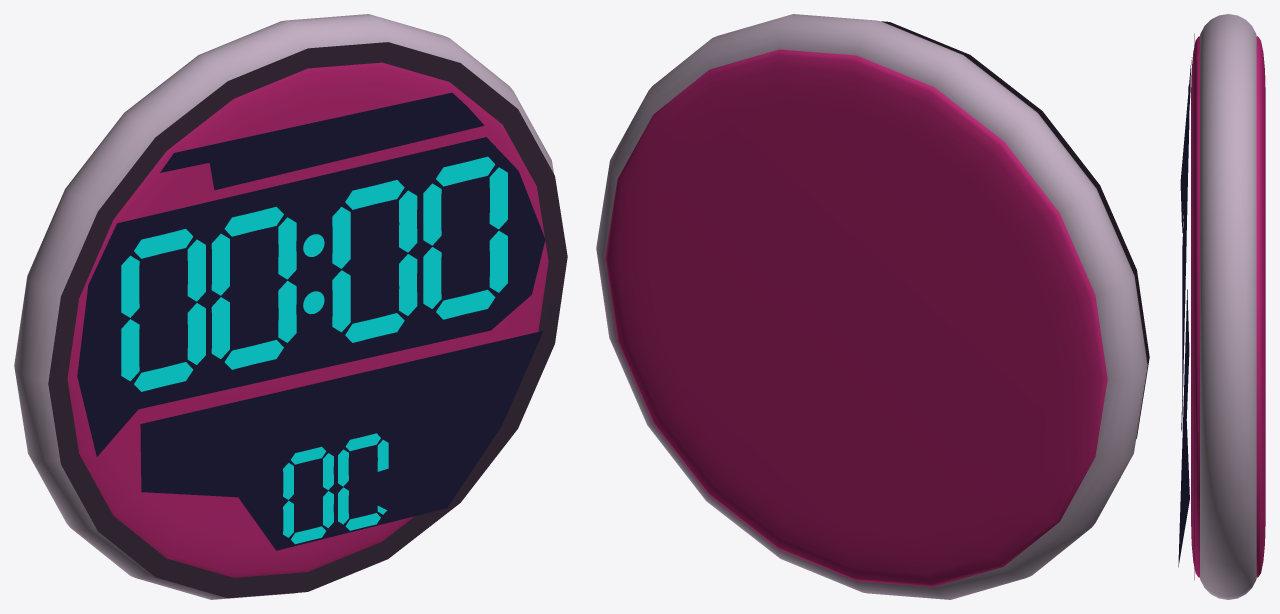
Rendered from Clock_bone.fbx.
The picture shows the model from 3 angles, left to right: view 1: azimuth 30°, elevation 25°; view 2: azimuth 150°, elevation 25°; view 3: azimuth 270°, elevation 25°; orthographic projection. The views are drawn at different scales.
Visible parts, largest first — view 1: obj4, obj5, obj2, obj6, obj1, obj3, obj9, obj8, obj10, obj7, obj13, obj14; view 2: obj2, obj1, obj6; view 3: obj1, obj2, obj5, obj4, obj3, obj6.
Boxes of the visible parts, bbox=[...] form: obj4: bbox=[77, 137, 545, 456]; obj5: bbox=[140, 330, 543, 550]; obj2: bbox=[67, 62, 548, 577]; obj6: bbox=[48, 42, 567, 598]; obj1: bbox=[14, 14, 553, 599]; obj3: bbox=[160, 92, 484, 190]; obj9: bbox=[332, 180, 417, 342]; obj8: bbox=[121, 229, 205, 391]; obj10: bbox=[423, 156, 507, 319]; obj7: bbox=[211, 206, 296, 369]; obj13: bbox=[283, 446, 333, 544]; obj14: bbox=[338, 433, 388, 530]; obj2: bbox=[605, 49, 1107, 586]; obj1: bbox=[596, 14, 1147, 599]; obj6: bbox=[881, 21, 1149, 438]; obj1: bbox=[1200, 14, 1256, 599]; obj2: bbox=[1191, 36, 1265, 577]; obj5: bbox=[1178, 289, 1189, 567]; obj4: bbox=[1181, 85, 1189, 431]; obj3: bbox=[1180, 57, 1191, 232]; obj6: bbox=[1194, 33, 1194, 580].
Bounding box in the file's own units: 217 × 217 × 31.98.
